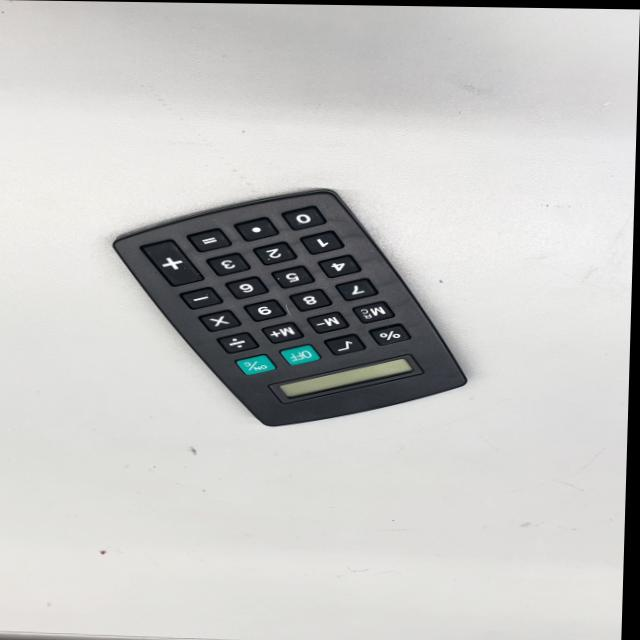calculator: (104, 183, 488, 434)
